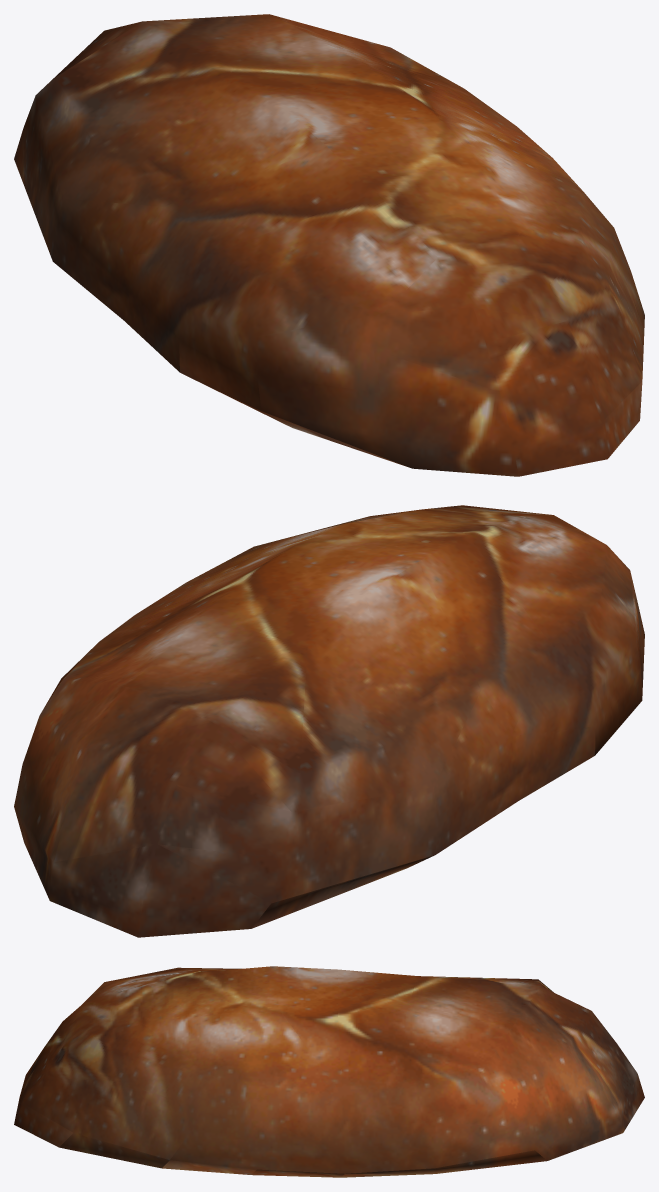
The model's file is food_anpan.glb.
3 renders of one model, top to bottom at view 1: azimuth 30°, elevation 25°; view 2: azimuth 150°, elevation 25°; view 3: azimuth 270°, elevation 25°, orthographic. The views are drawn at different scales.
Visible parts, largest first — view 1: mesh; view 2: mesh; view 3: mesh.
Part boxes in pixels (<box>): mesh: <box>14,14,644,476</box>; mesh: <box>14,505,644,937</box>; mesh: <box>14,966,644,1177</box>.
Bounding box in the file's own units: 0.102 × 0.045 × 0.1877.
Materials: 1 (1 with a texture image).
